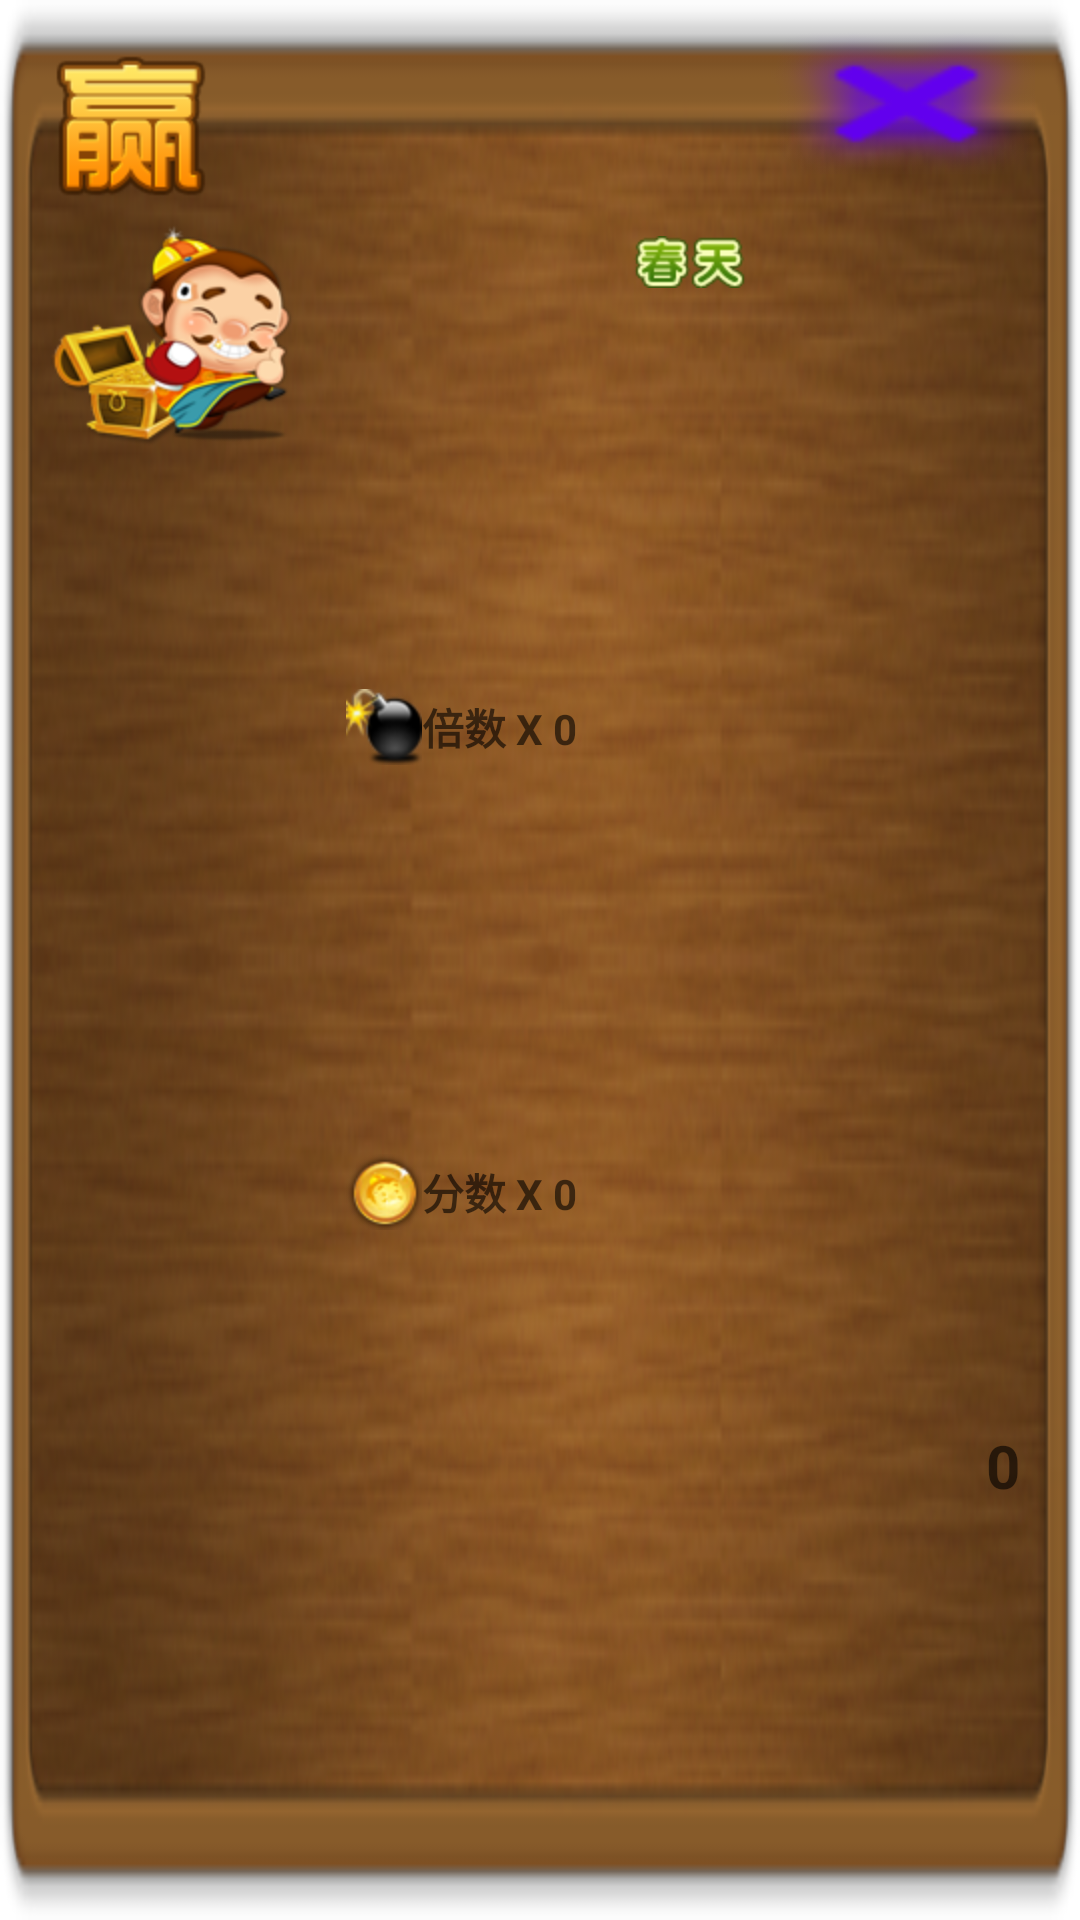

Icon click points for this 1080w x 1920h phone screenshot, format point (x, y):
game end bt close: point (903, 102)
game flag bomb: point (384, 726)
game flag coin: point (384, 1193)
game flag win: point (177, 334)
